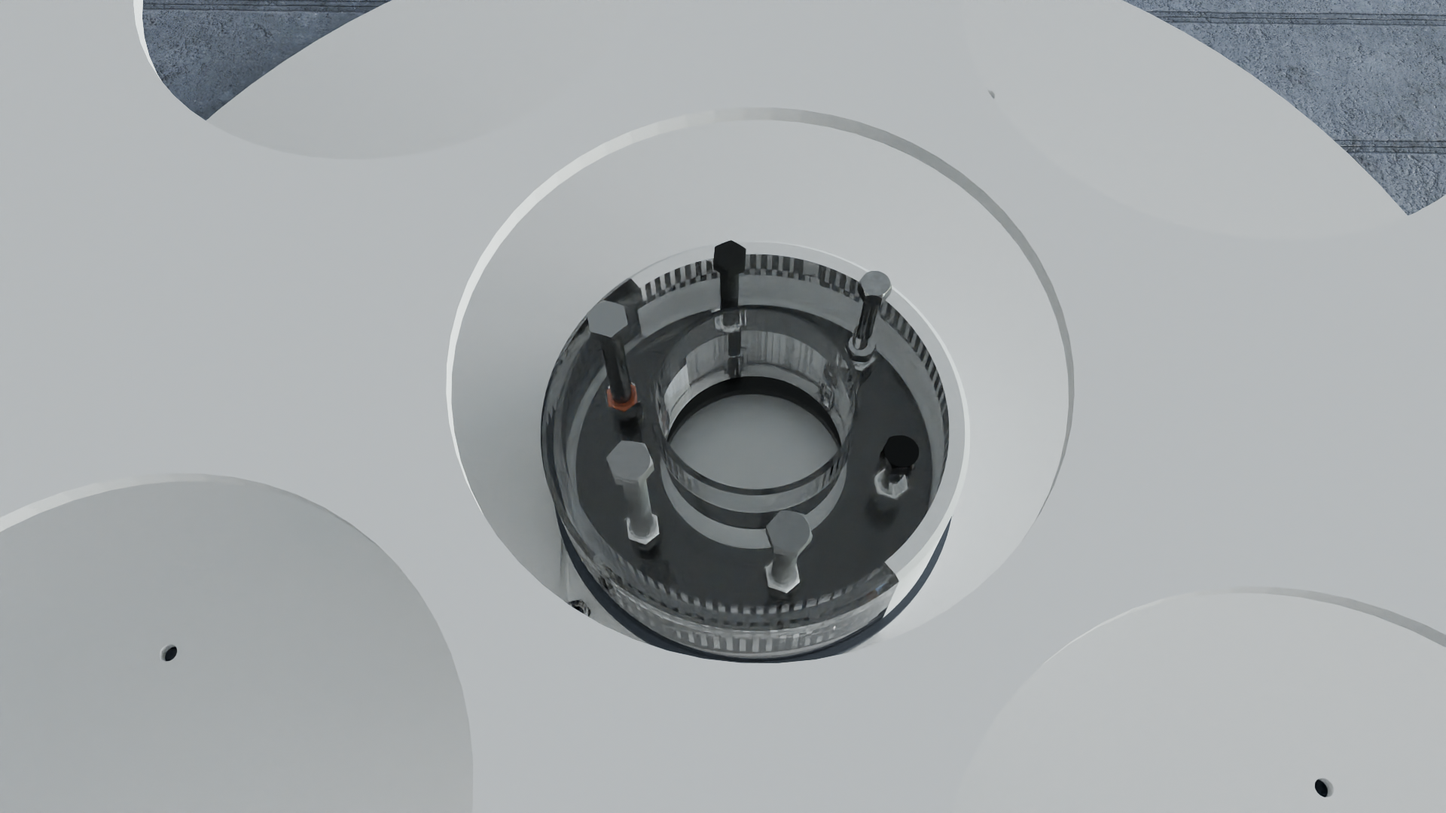bolt: (766, 510, 813, 553), (606, 440, 653, 481), (587, 300, 628, 338), (881, 435, 921, 469), (713, 240, 746, 271), (859, 271, 892, 299)
